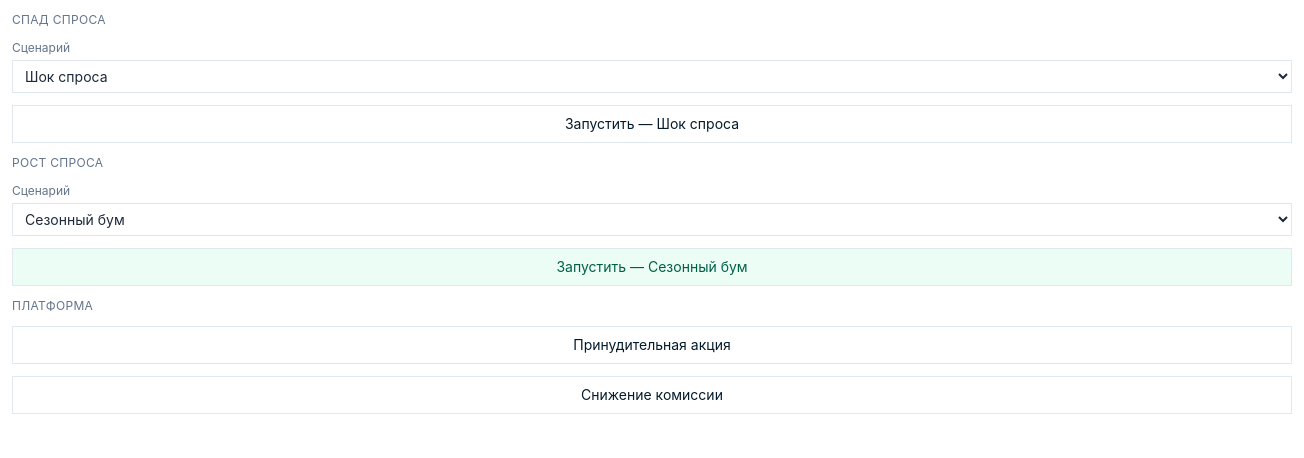
ShocksControlPanel › shows_queue_depth_message_on_success
Click the button with test id "trigger-crash-btn". click: (652, 124)
box: [12,105,1292,143]
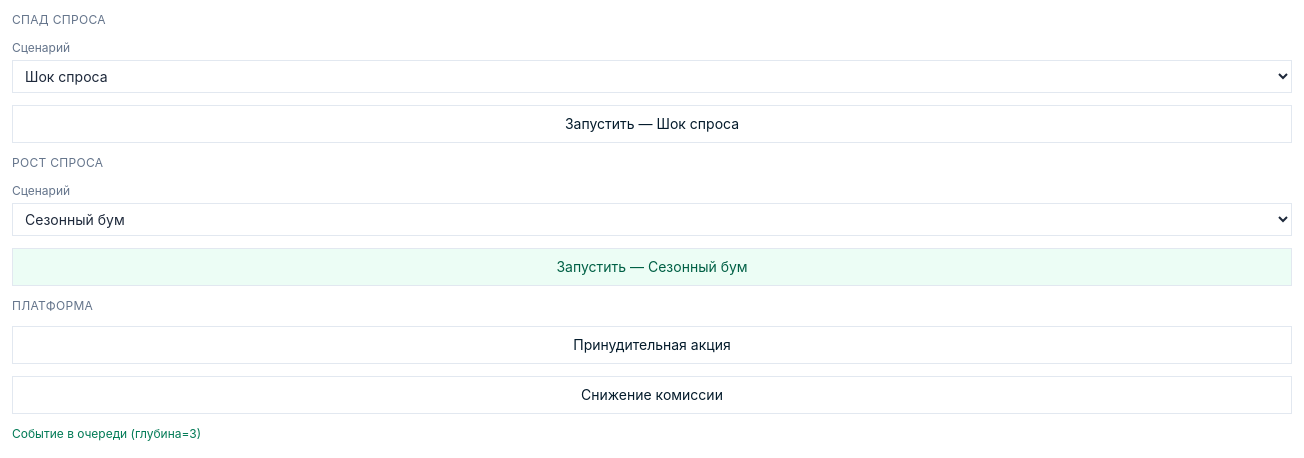
Now the text "Событие в очереди (глубина=3)" is shown, box [12,426,201,441]
